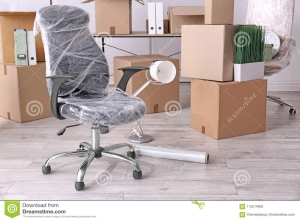chair: (36, 5, 150, 191)
